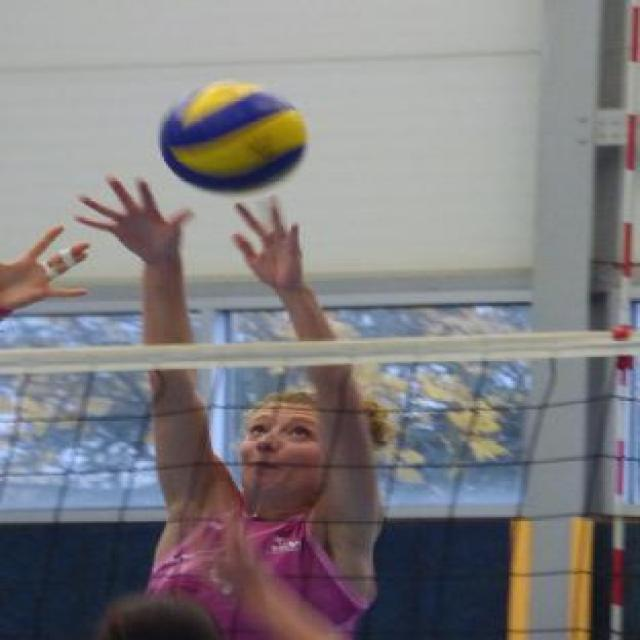volleyball: (158, 81, 306, 195)
